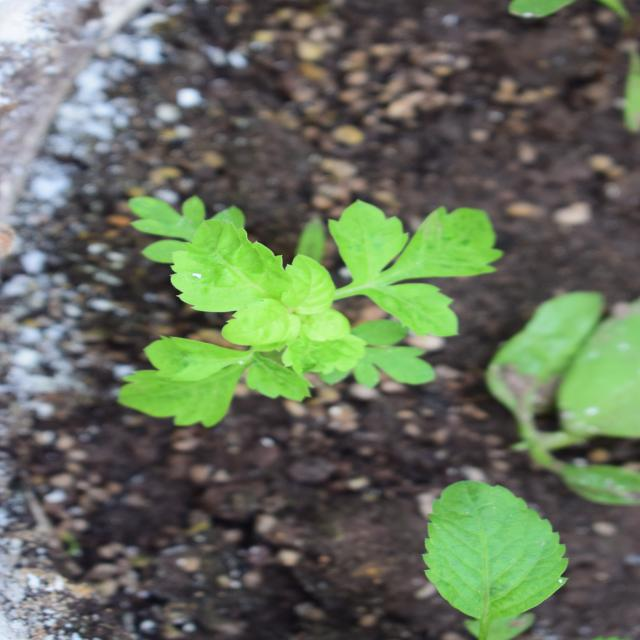Bidens pilosa: (192, 113, 438, 534)
